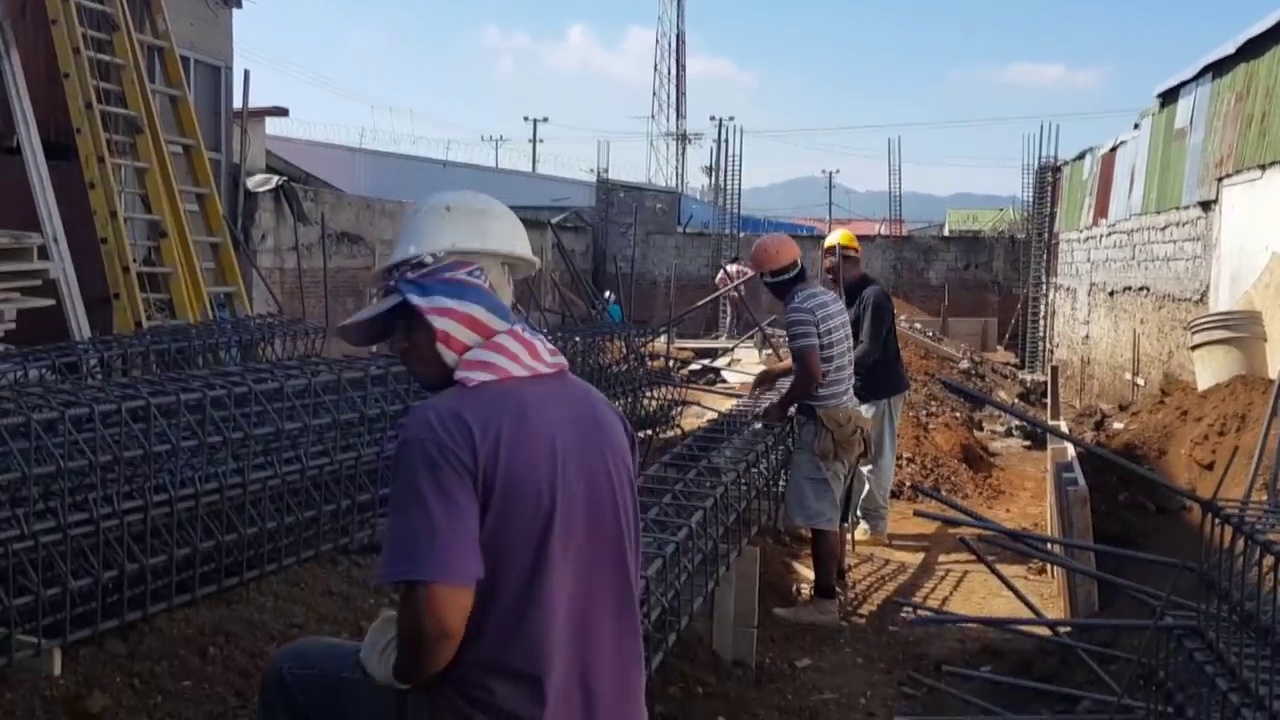helmet: (368, 186, 542, 299), (753, 231, 805, 276), (820, 227, 865, 265), (604, 291, 616, 301)
helmet-off: (727, 254, 739, 266)
helmet-on: (334, 193, 561, 382), (750, 230, 812, 305), (821, 226, 866, 281), (602, 291, 616, 307)
person: (329, 202, 644, 720), (747, 228, 858, 625), (821, 226, 904, 539), (715, 253, 752, 337), (597, 290, 622, 324)
